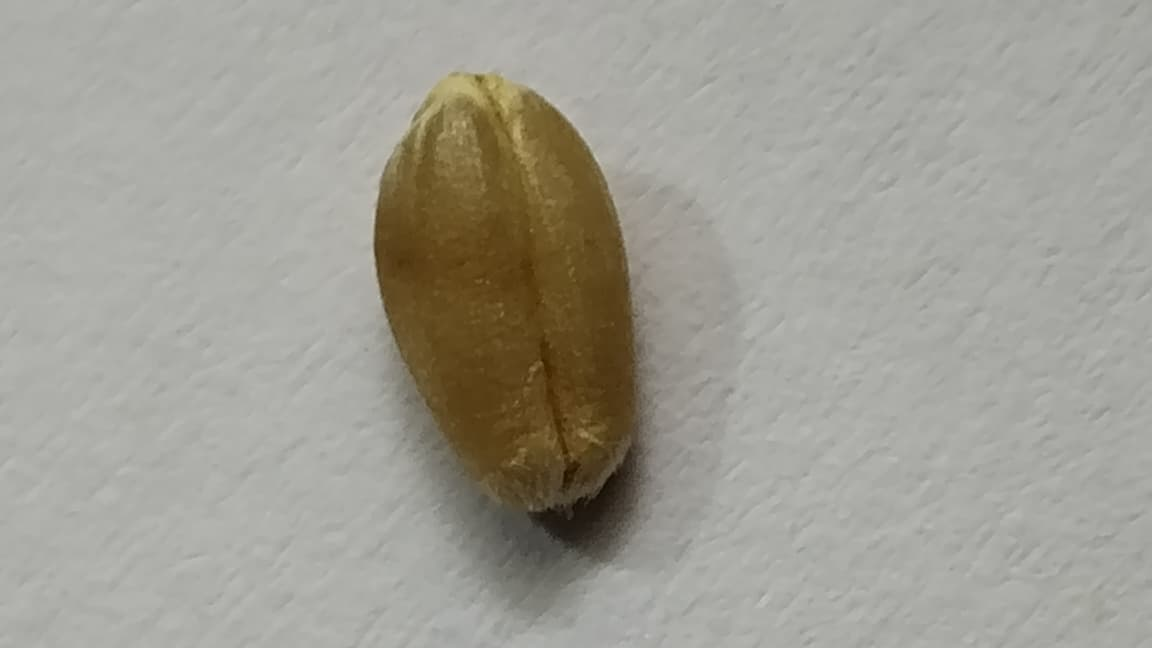healthy: (375, 74, 634, 511)
